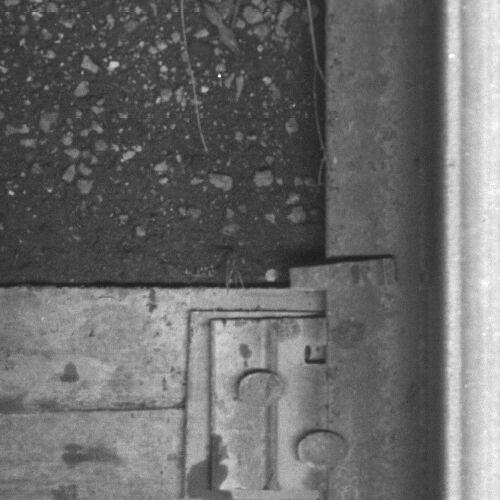crutch: (288, 255, 398, 292)
do: (208, 314, 348, 490)
rail: (442, 1, 500, 500)
tie_wood: (1, 286, 328, 500)
